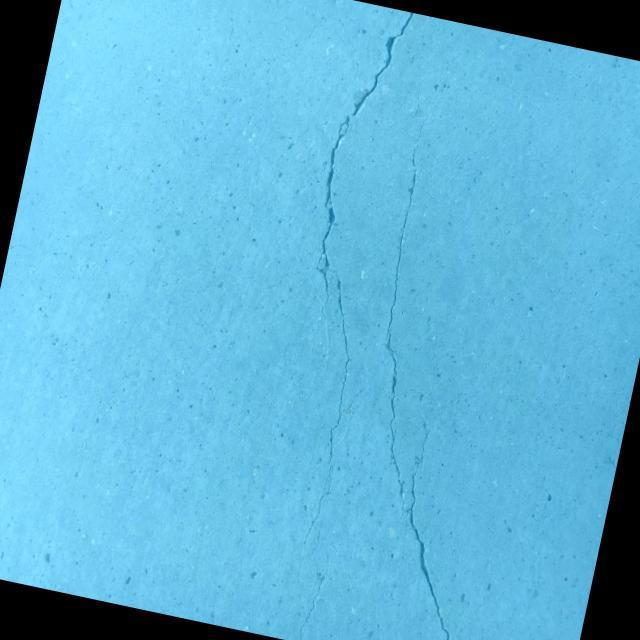crack: (299, 79, 579, 640), (241, 1, 438, 588), (297, 561, 328, 640), (344, 296, 381, 326)
